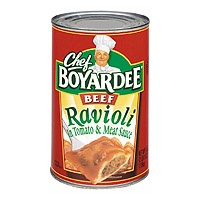grozi_90: (50, 10, 150, 188)
